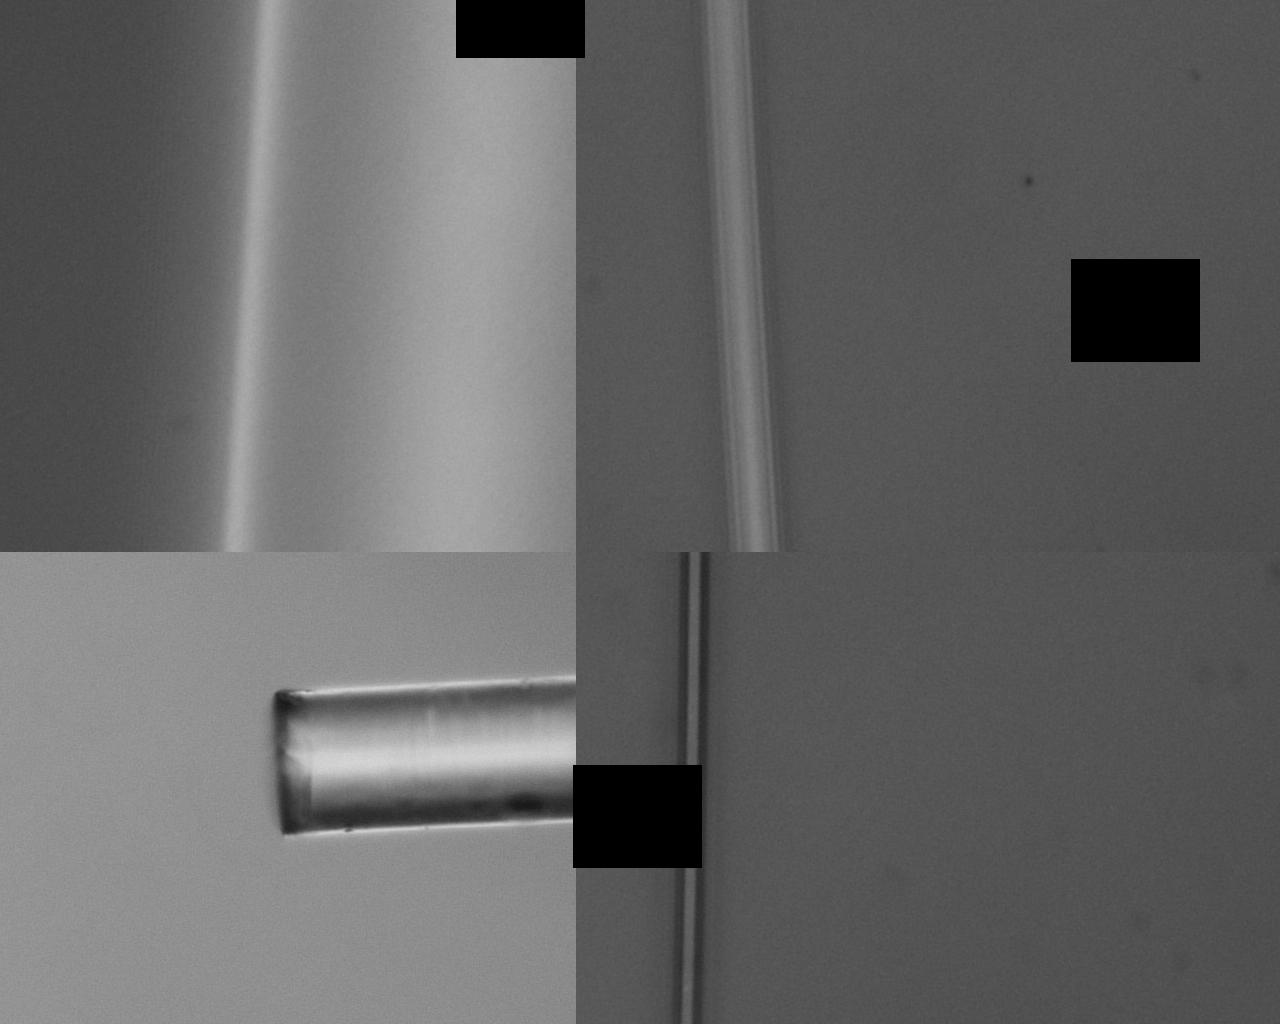fiber: (844, 389, 1206, 1024), (330, 0, 543, 389), (844, 0, 1081, 345), (510, 389, 549, 1024)
